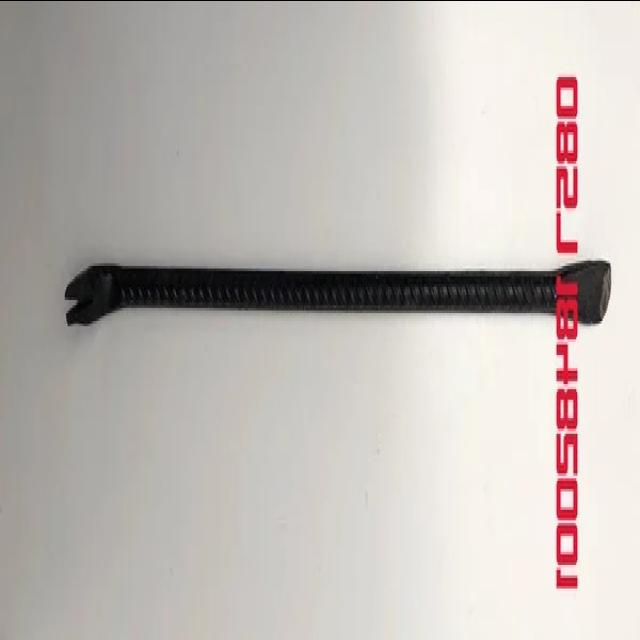Linggis: (67, 260, 611, 338)
